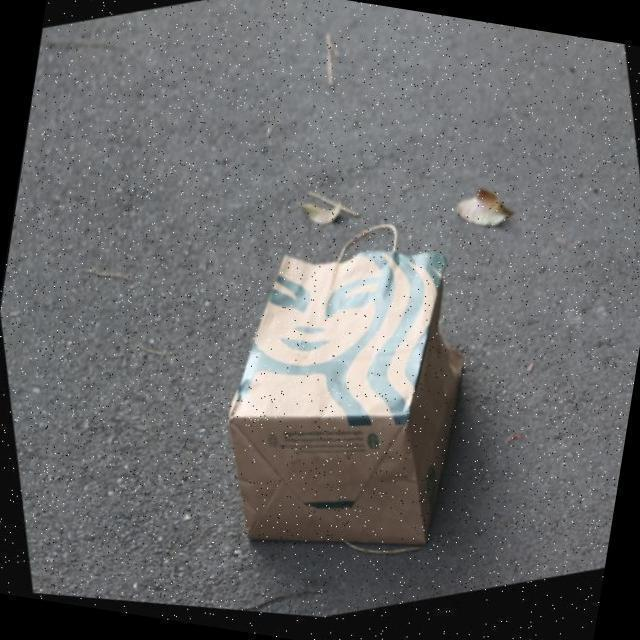Paper_Bag: (160, 180, 530, 620)
